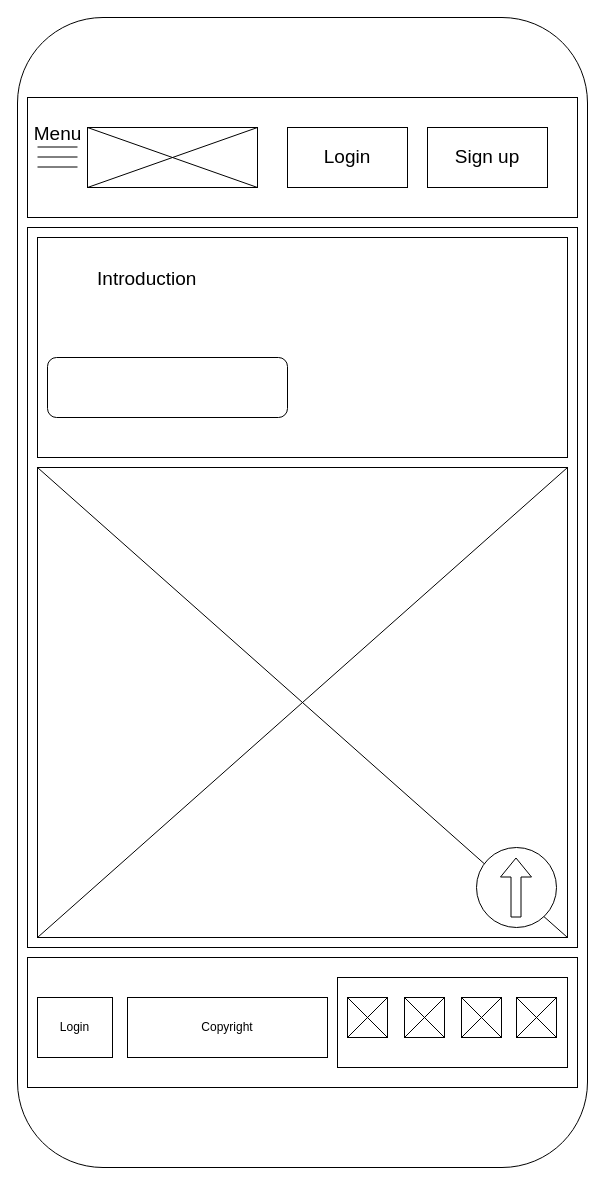
Image size: 605x1185. Some labels were removed from this diagram. Here are the shapes that lost their labels. From the top down, the box of each, then its label:
(86, 126, 258, 188): Logo
(46, 356, 288, 418): CTA Button
(336, 976, 568, 1068): Social Media Menu
